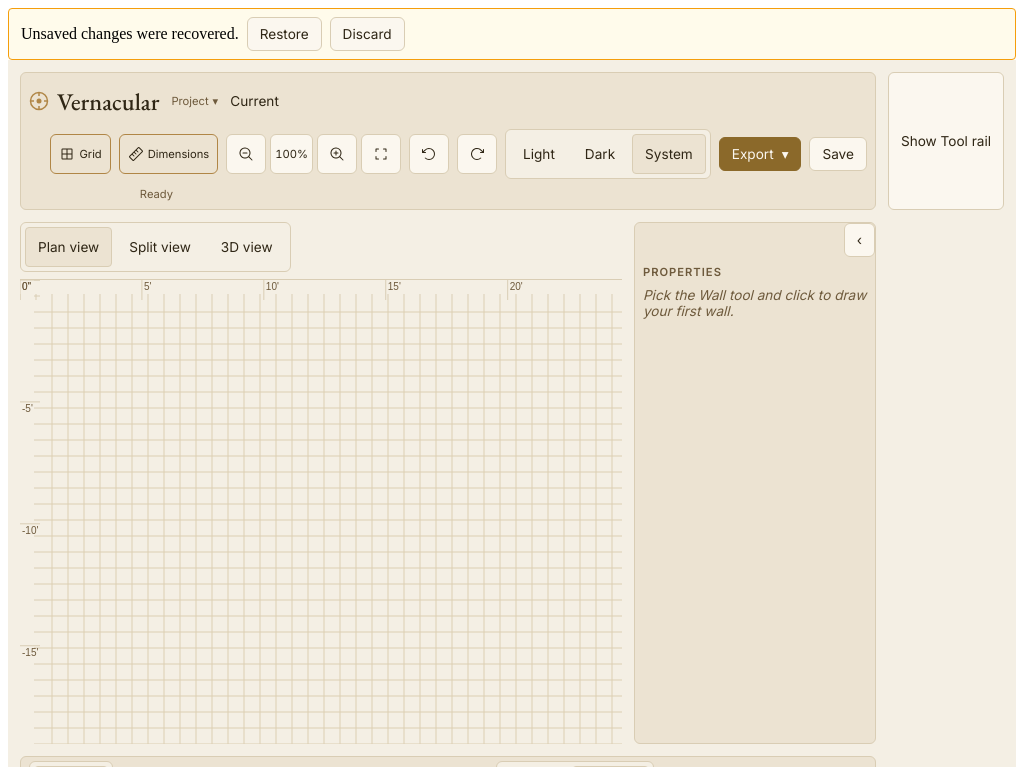
Test: App project actions › offers a recovery prompt that restores recovered work into the session
Expected: the message "Unsaved changes were recovered. Restore Discard" is shown, x1=8 y1=8 x2=1016 y2=60
Click the button "Restore": (284, 34) x1=247 y1=17 x2=322 y2=51
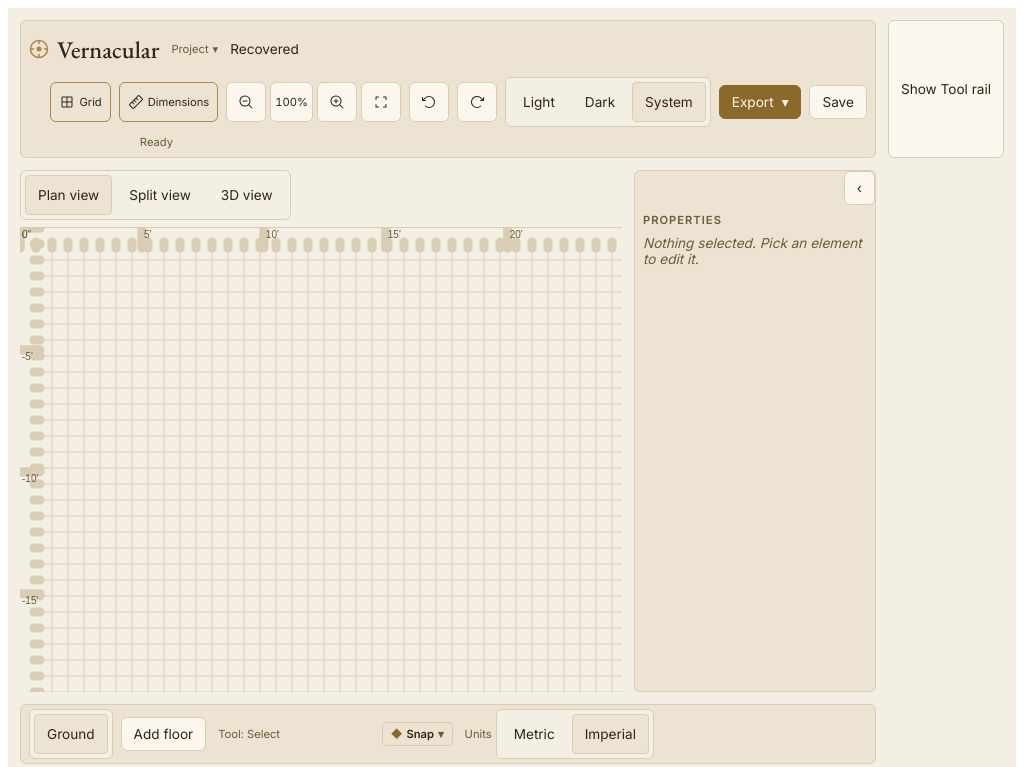
Result: the text "Recovered" is shown at x1=230 y1=41 x2=299 y2=57
